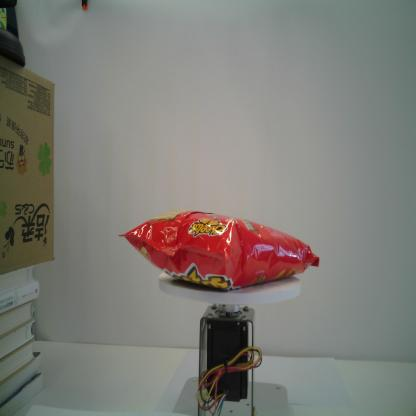Puffed Food: (117, 208, 321, 293)
